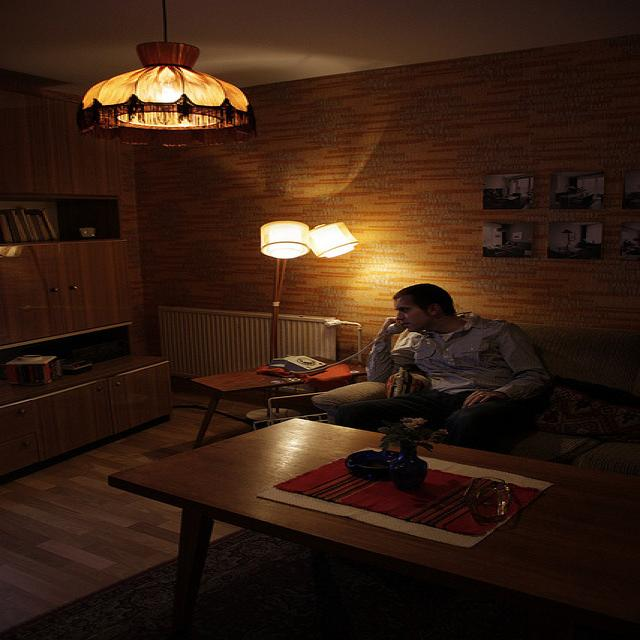People: (347, 274, 561, 442)
Table: (138, 405, 638, 640), (4, 57, 188, 473), (190, 344, 358, 422)
chair: (318, 312, 640, 473)
